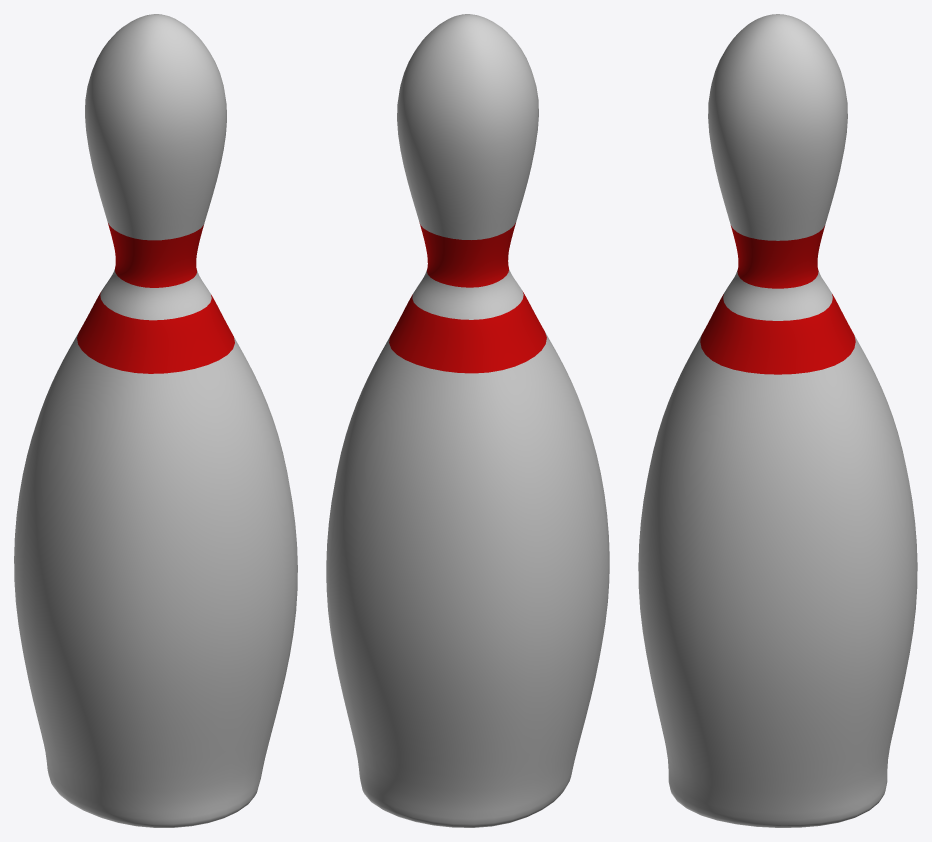
Rendered from pin.obj.
3 renders of one model, left to right at view 1: azimuth 30°, elevation 25°; view 2: azimuth 150°, elevation 25°; view 3: azimuth 270°, elevation 25°, orthographic.
Visible parts, largest first — view 1: Cube; view 2: Cube; view 3: Cube.
Boxes of the visible parts, left/top/right/bottom form: Cube: left=14, top=14, right=297, bottom=827; Cube: left=326, top=14, right=609, bottom=827; Cube: left=638, top=14, right=917, bottom=827.
Size of the model in its own units: 1.95 by 5.96 by 1.95.
